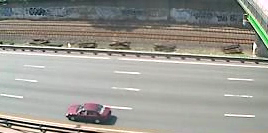car: (63, 101, 115, 125)
